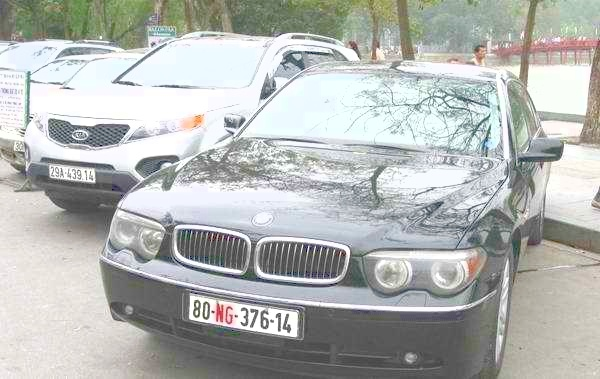plate: (183, 288, 302, 343), (44, 160, 96, 187)
